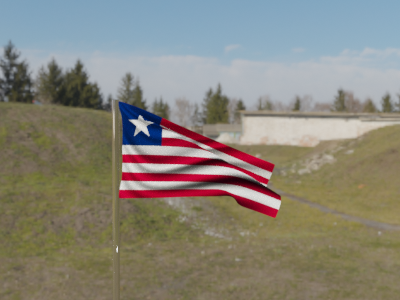Liberia flag: (117, 98, 293, 221)
